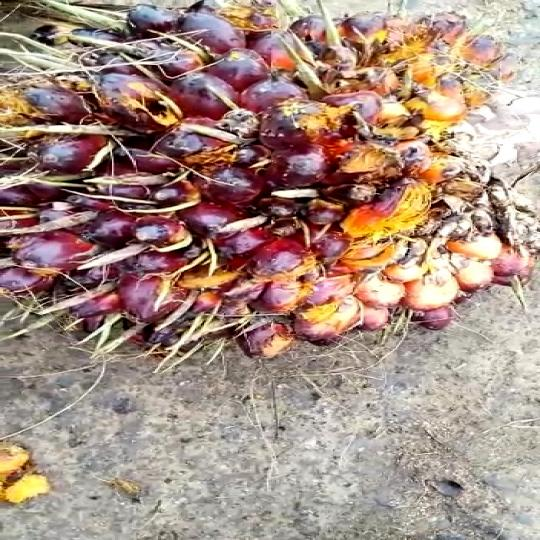masak: (0, 0, 540, 369)
